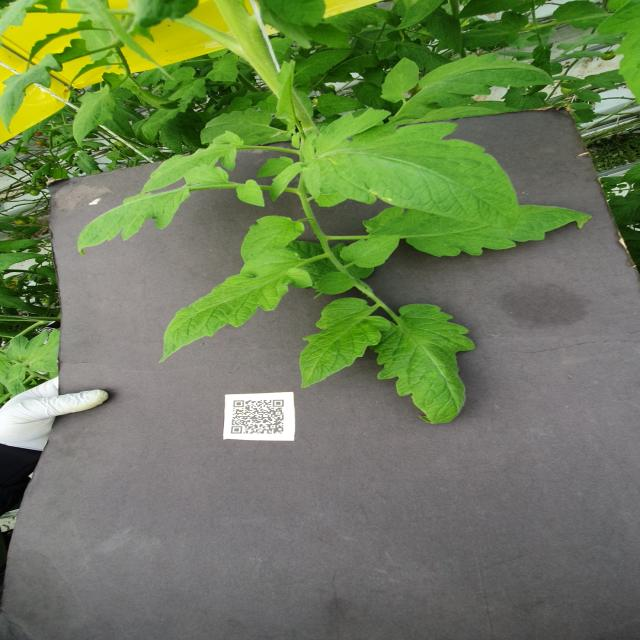Healthy Leaf: (300, 109, 530, 222), (162, 249, 314, 364), (363, 204, 595, 259), (380, 52, 556, 124), (373, 305, 477, 426), (297, 298, 394, 390), (73, 188, 191, 259), (147, 131, 245, 188), (240, 217, 307, 264), (202, 110, 276, 147), (71, 91, 116, 149), (293, 49, 354, 87), (342, 234, 401, 270), (426, 9, 464, 56), (318, 93, 369, 119), (236, 180, 265, 208), (574, 90, 604, 104)
